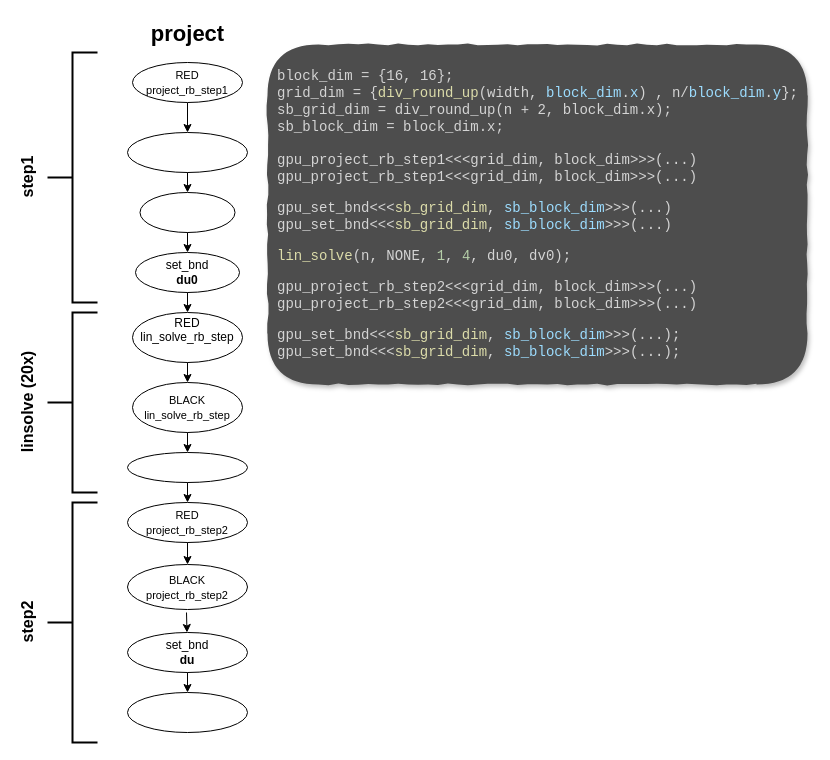
This 830x760 diagram has some shape labels left out. The centre of each missing label's shape, as x and y in pixels:
"BLACK project_rb_step1" belongs at (187,152).
"set_bnd" belongs at (187,467).
"set_bnd dv" belongs at (187,712).
"set_bnd dv0" belongs at (187,212).
